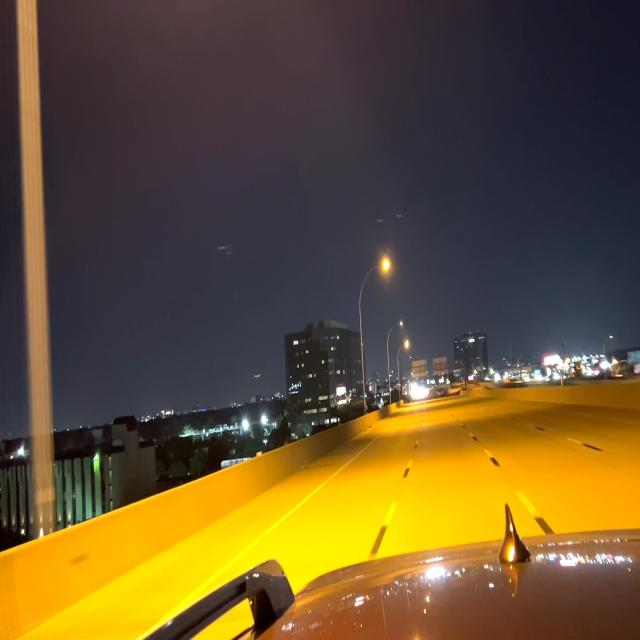back-of-sign: (412, 357, 428, 381), (433, 354, 450, 376)
